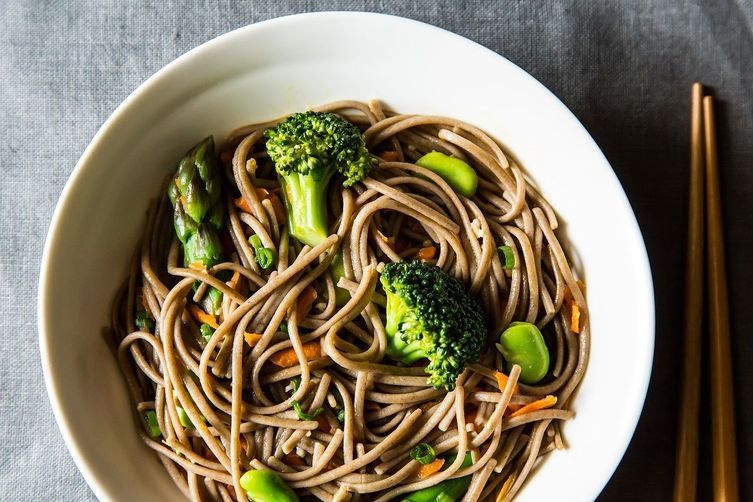Soba: (129, 107, 587, 501)
